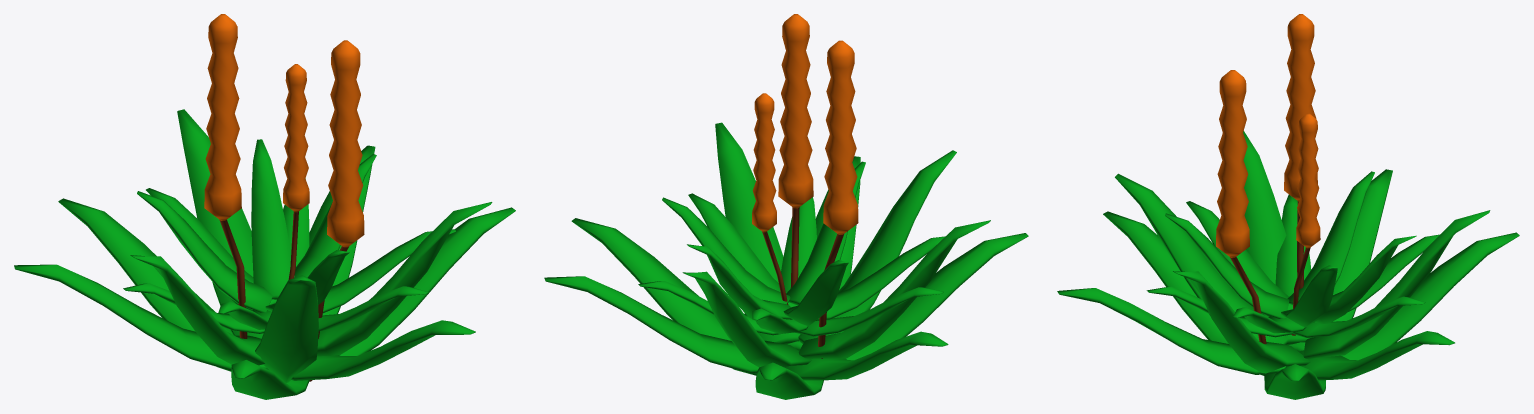
File: Me_Aloe.fbx
3 renders of one model, left to right at view 1: azimuth 30°, elevation 25°; view 2: azimuth 150°, elevation 25°; view 3: azimuth 270°, elevation 25°, orthographic. The views are drawn at different scales.
Visible parts, largest first — view 1: Plane; view 2: Plane; view 3: Plane.
Boxes of the visible parts, box(x1,y1,x2,y2) form: Plane: box(14, 14, 515, 399); Plane: box(544, 14, 1028, 399); Plane: box(1057, 14, 1519, 399).
Size of the model in its own units: 399 by 314 by 391.
